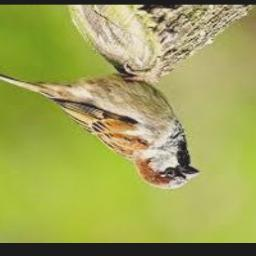Sparrow: (0, 61, 201, 190)
